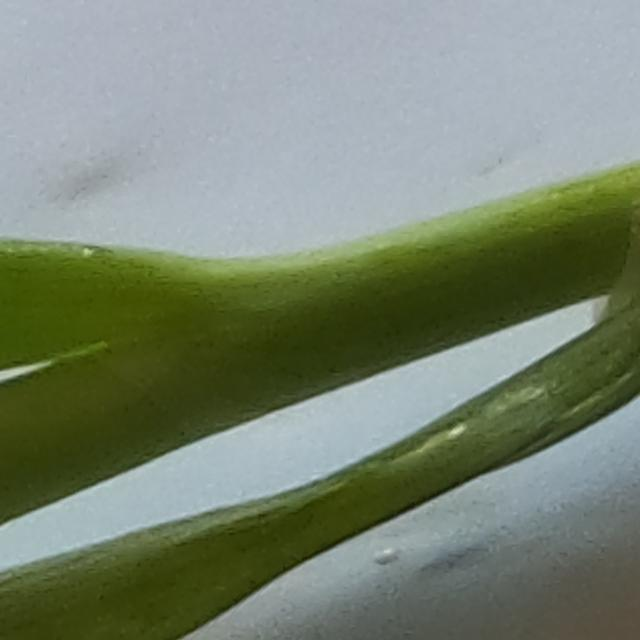green_onion: (0, 157, 640, 640)
